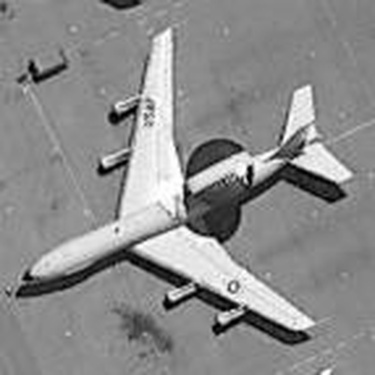airplane: (13, 16, 360, 340)
